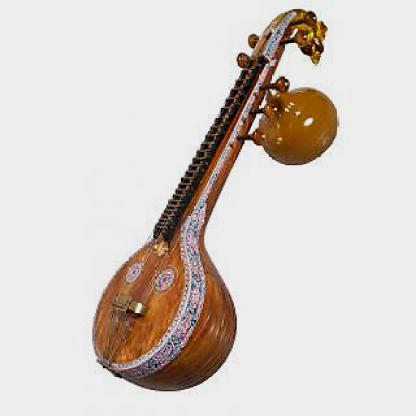Veena: (87, 57, 242, 400)
